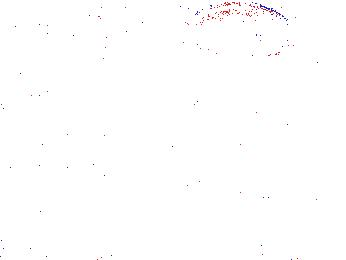moon jellyfish: (131, 20, 225, 125), (183, 1, 294, 58), (13, 89, 87, 167), (103, 1, 197, 58), (55, 13, 108, 84)
